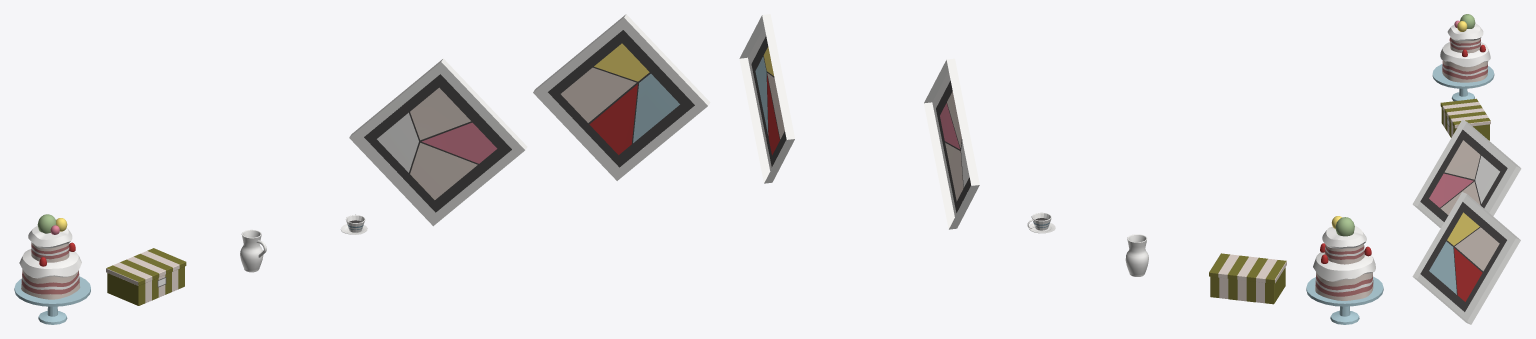
File: props.fbx
The picture shows the model from 3 angles, left to right: view 1: azimuth 30°, elevation 25°; view 2: azimuth 150°, elevation 25°; view 3: azimuth 270°, elevation 25°; orthographic projection. The views are drawn at different scales.
Parts seen in each view (by area): view 1: Frame.001, Frame, Room_10_Vase_with_water_1_Cartoon_Room_Glass_0.001, Box, Cake Stand, Mug; view 2: Frame.001, Frame, Room_10_Vase_with_water_1_Cartoon_Room_Glass_0.001, Box, Cake Stand, Mug, Tea Cup; view 3: Frame, Frame.001, Room_10_Vase_with_water_1_Cartoon_Room_Glass_0.001, Box, Cake Stand.
Part boxes in pixels (x1,y1,x2,y2): Frame.001: [349, 58, 527, 226]; Frame: [533, 14, 710, 180]; Room_10_Vase_with_water_1_Cartoon_Room_Glass_0.001: [19, 214, 81, 299]; Box: [106, 248, 186, 305]; Cake Stand: [14, 276, 90, 324]; Mug: [240, 229, 266, 272]; Frame.001: [924, 58, 979, 229]; Frame: [739, 14, 794, 183]; Room_10_Vase_with_water_1_Cartoon_Room_Glass_0.001: [1313, 216, 1375, 300]; Box: [1209, 253, 1286, 304]; Cake Stand: [1306, 276, 1383, 324]; Mug: [1125, 234, 1148, 276]; Tea Cup: [1027, 212, 1055, 233]; Frame: [1412, 192, 1520, 324]; Frame.001: [1412, 119, 1521, 228]; Room_10_Vase_with_water_1_Cartoon_Room_Glass_0.001: [1440, 14, 1490, 82]; Box: [1440, 98, 1490, 140]; Cake Stand: [1432, 64, 1494, 101].
Bounding box in the file's own units: 509 × 121 × 89.91.
